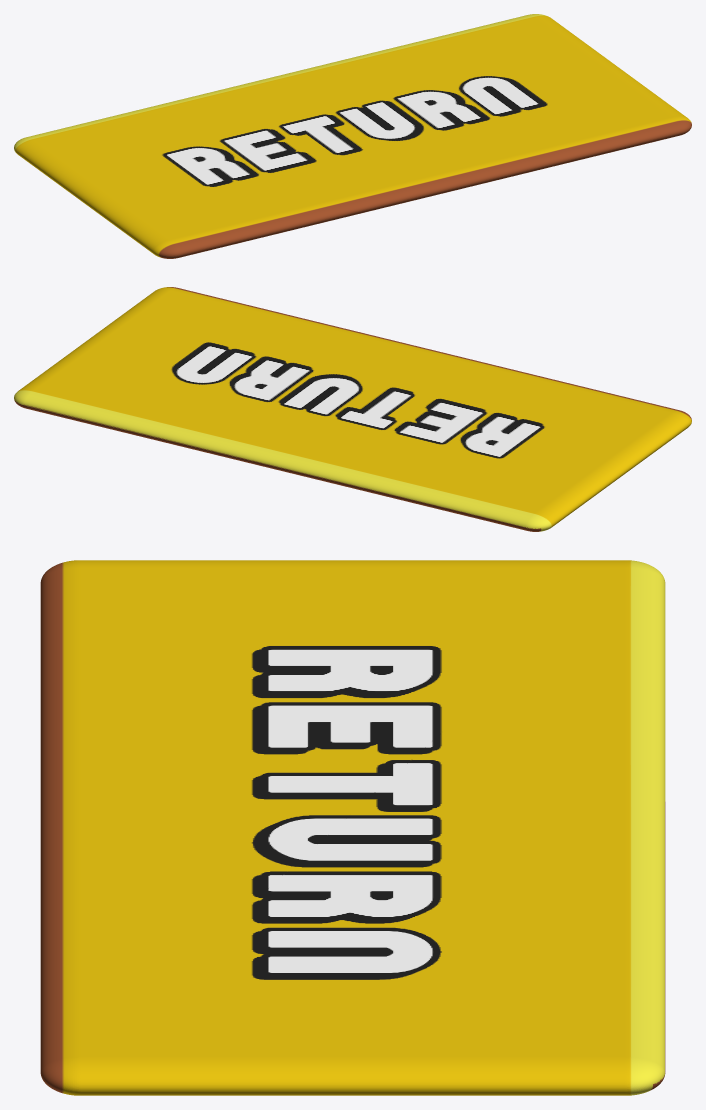
The model's file is button_return.dae.
3 views of the same model, one above another, from view 1: azimuth 30°, elevation 25°; view 2: azimuth 150°, elevation 25°; view 3: azimuth 270°, elevation 25° (orthographic). The views are drawn at different scales.
Visible parts, largest first — view 1: Plane; view 2: Plane; view 3: Plane.
Part boxes in pixels (<box>): Plane: <box>14,14,691,258</box>; Plane: <box>14,287,691,531</box>; Plane: <box>40,560,665,1095</box>.
Size of the model in its own units: 7.9 by 3.98 by 0.2189.
1 material, 1 textured.
